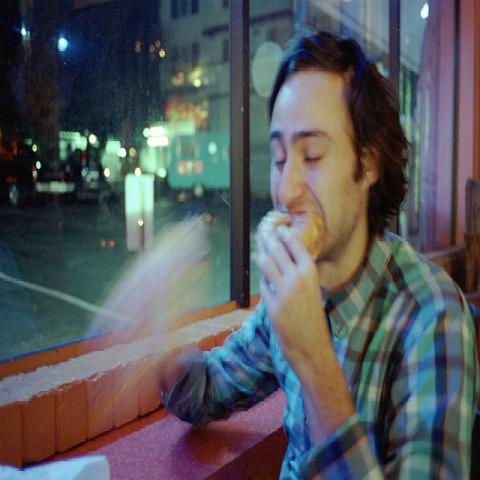car: (0, 153, 75, 211)
